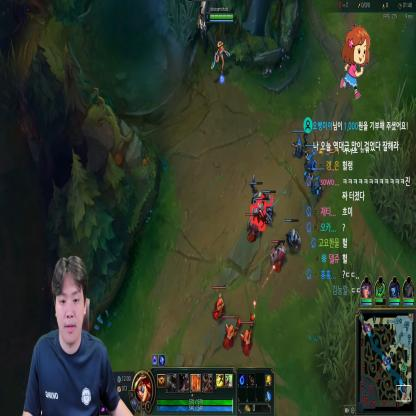donation: (303, 23, 408, 152)
streamer: (23, 256, 134, 416)
